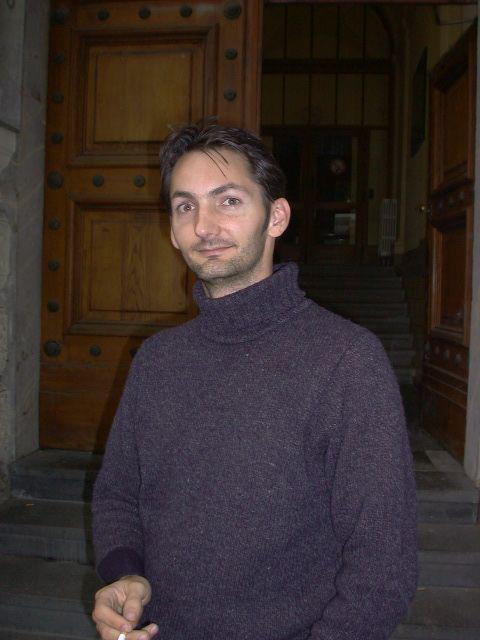Person: (88, 126, 425, 640)
